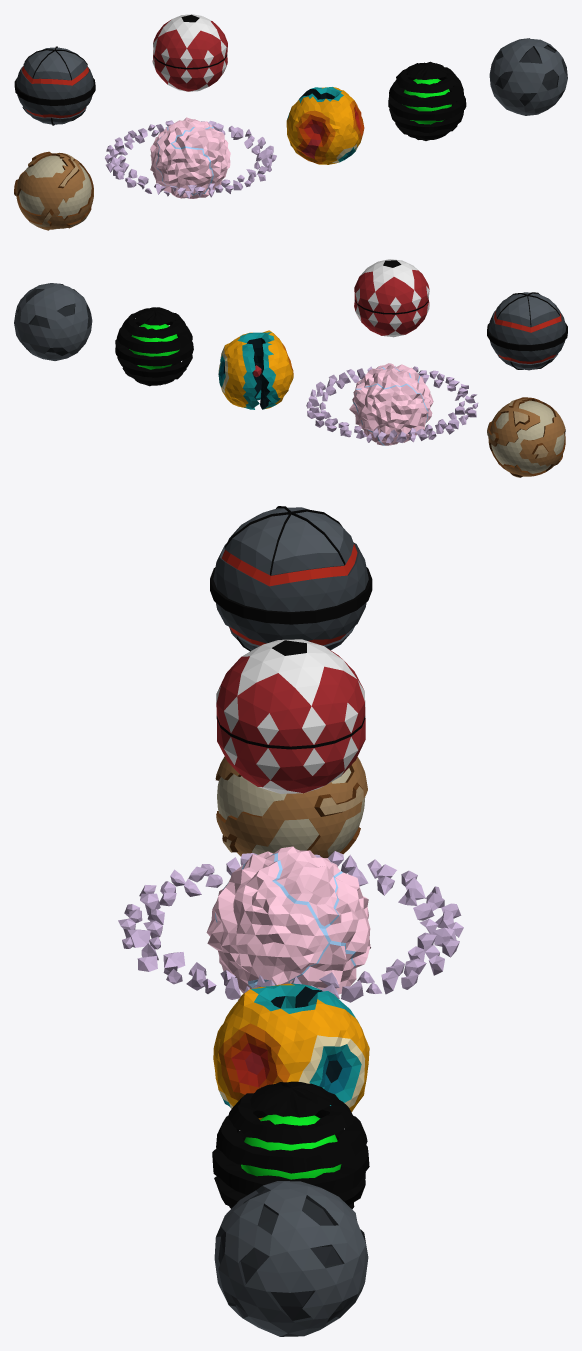
The model's file is planetes_v1.fbx.
3 renders of one model, top to bottom at view 1: azimuth 30°, elevation 25°; view 2: azimuth 150°, elevation 25°; view 3: azimuth 270°, elevation 25°, orthographic. The views are drawn at different scales.
Parts seen in each view (by area): view 1: SandDirt, PoneyCloud.001, Robot, Matrix, Fragmented, Moon, Clown, PoneyCloud; view 2: SandDirt, Matrix, PoneyCloud.001, Robot, Moon, Clown, Fragmented, PoneyCloud; view 3: Moon, Clown, PoneyCloud.001, Robot, Fragmented, Matrix, PoneyCloud, SandDirt.
Part boxes in pixels (x1=…): SandDirt: x1=14, y1=151, x2=93, y2=230; PoneyCloud.001: x1=150, y1=117, x2=230, y2=198; Robot: x1=14, y1=46, x2=95, y2=125; Matrix: x1=388, y1=61, x2=466, y2=140; Fragmented: x1=286, y1=87, x2=364, y2=164; Moon: x1=489, y1=38, x2=567, y2=115; Clown: x1=152, y1=14, x2=227, y2=91; PoneyCloud: x1=105, y1=120, x2=276, y2=198; SandDirt: x1=487, y1=397, x2=565, y2=477; Matrix: x1=115, y1=307, x2=193, y2=386; PoneyCloud.001: x1=349, y1=363, x2=433, y2=445; Robot: x1=487, y1=292, x2=567, y2=370; Moon: x1=14, y1=283, x2=92, y2=360; Clown: x1=354, y1=259, x2=429, y2=337; Fragmented: x1=218, y1=330, x2=293, y2=409; PoneyCloud: x1=306, y1=366, x2=478, y2=442; Moon: x1=214, y1=1181, x2=368, y2=1336; Clown: x1=216, y1=639, x2=365, y2=793; PoneyCloud.001: x1=206, y1=846, x2=370, y2=994; Robot: x1=210, y1=506, x2=372, y2=651; Fragmented: x1=213, y1=983, x2=369, y2=1119; Matrix: x1=212, y1=1081, x2=369, y2=1209; PoneyCloud: x1=118, y1=851, x2=463, y2=1002; SandDirt: x1=215, y1=756, x2=367, y2=857.
Size of the model in its own units: 1605 by 506 by 443.
